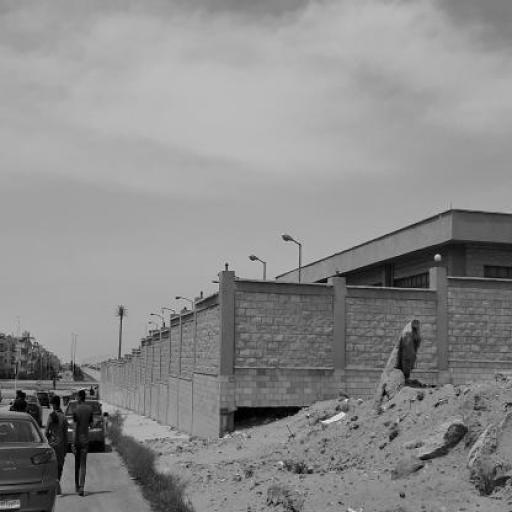street light: (282, 233, 301, 286), (248, 254, 266, 278), (174, 296, 192, 318), (72, 334, 78, 390), (150, 313, 164, 329)
